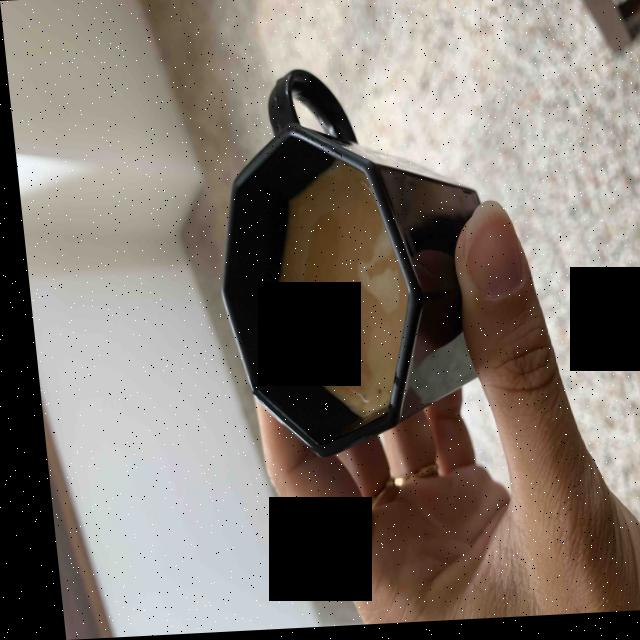espresso-with-caffeine: (272, 172, 401, 416)
